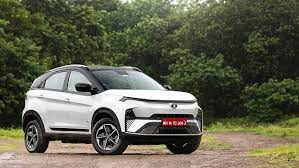Tata Nexon: (14, 62, 205, 157)
